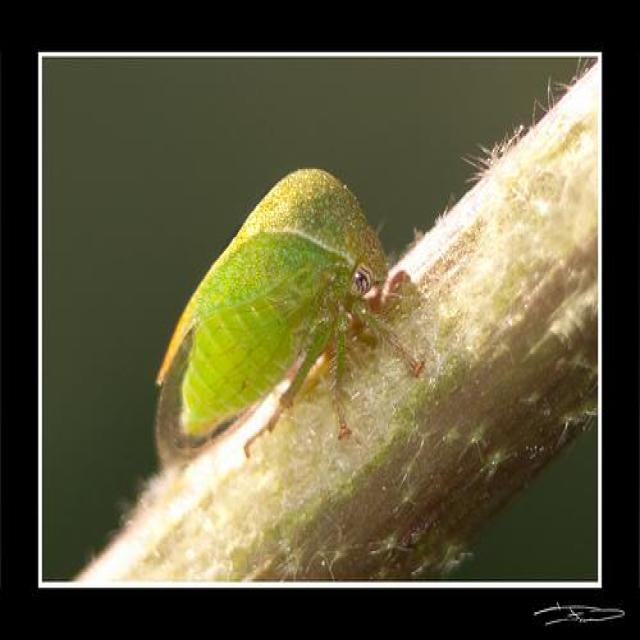Aphids: (150, 141, 444, 473)
